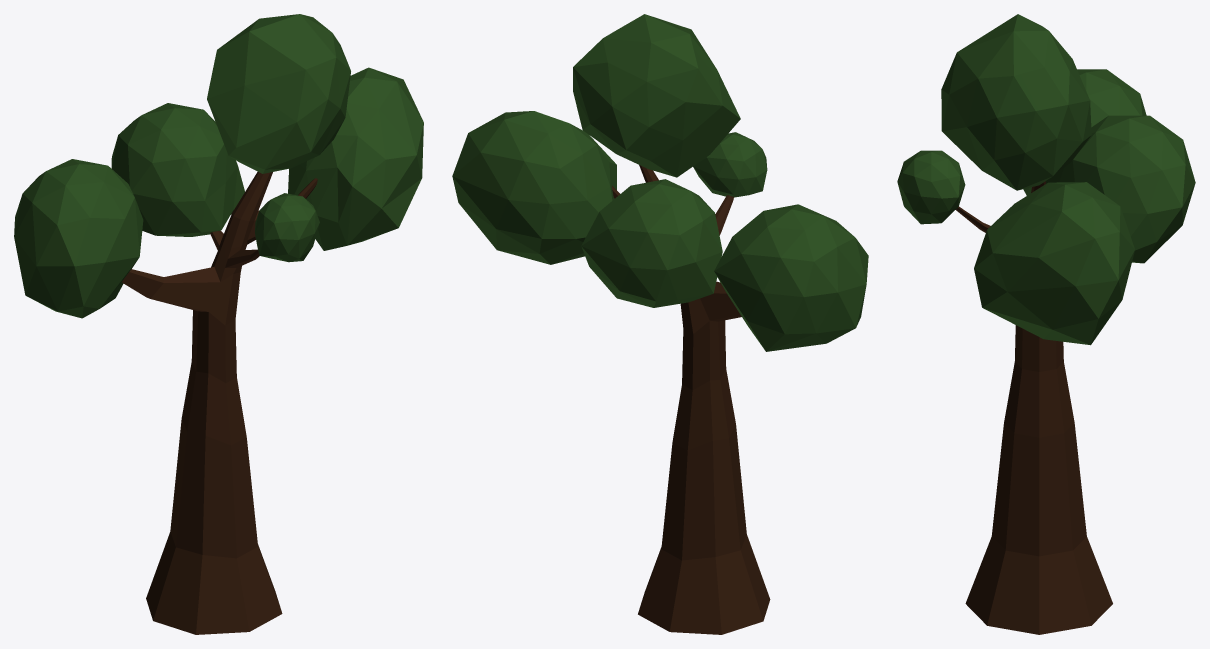
The model's file is Tree2.FBX.
The picture shows the model from 3 angles, left to right: view 1: azimuth 30°, elevation 25°; view 2: azimuth 150°, elevation 25°; view 3: azimuth 270°, elevation 25°; orthographic projection. The views are drawn at different scales.
Visible parts, largest first — view 1: oak tree 5; view 2: oak tree 5; view 3: oak tree 5.
Part boxes in pixels (<box>): oak tree 5: <box>14,14,423,634</box>; oak tree 5: <box>452,14,868,634</box>; oak tree 5: <box>897,14,1195,634</box>.
Bounding box in the file's own units: 1055 × 1477 × 655.
